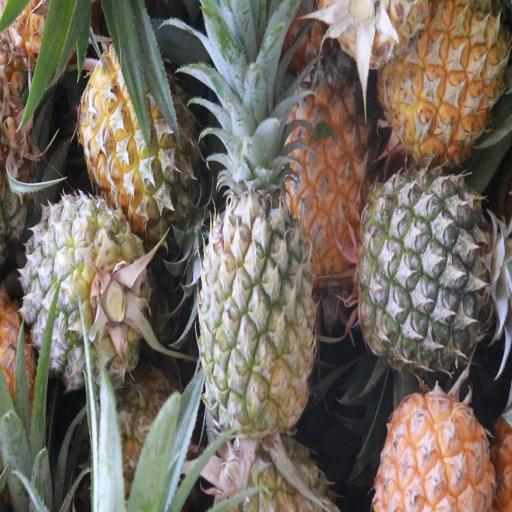------------------------------: (21, 190, 144, 382), (81, 29, 199, 227)
Pineapple - v8 v1: (382, 3, 504, 158), (288, 63, 372, 279), (374, 384, 494, 512)
